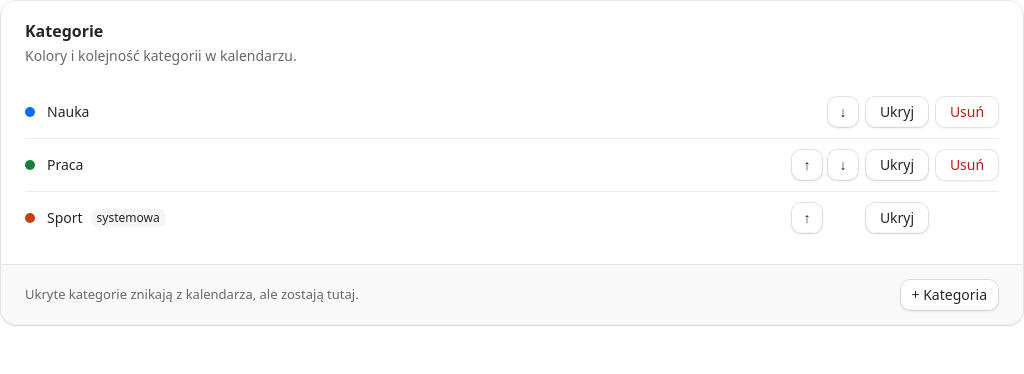
Test: CategoriesCard › błąd przesunięcia cofa kolejność i pokazuje komunikat
Click the button named "W dół" at (843, 112), box x1=827 y1=96 x2=859 y2=128
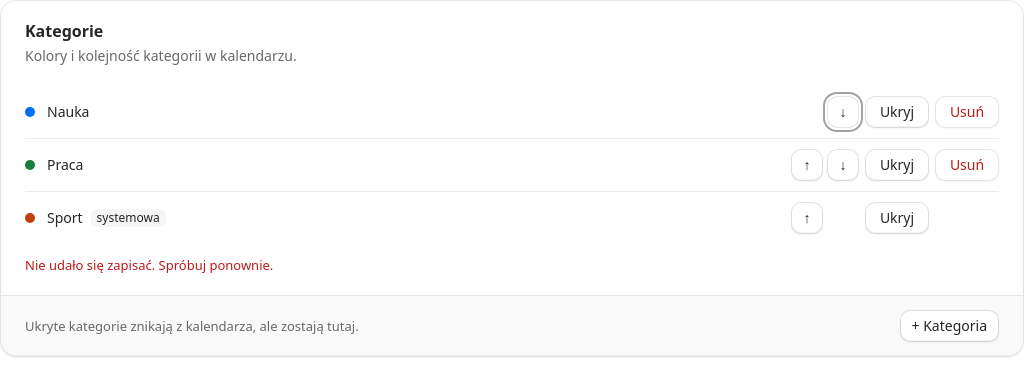
Expected: the message reads "Nie udało się zapisać. Spróbuj ponownie.", x1=25 y1=256 x2=273 y2=274
